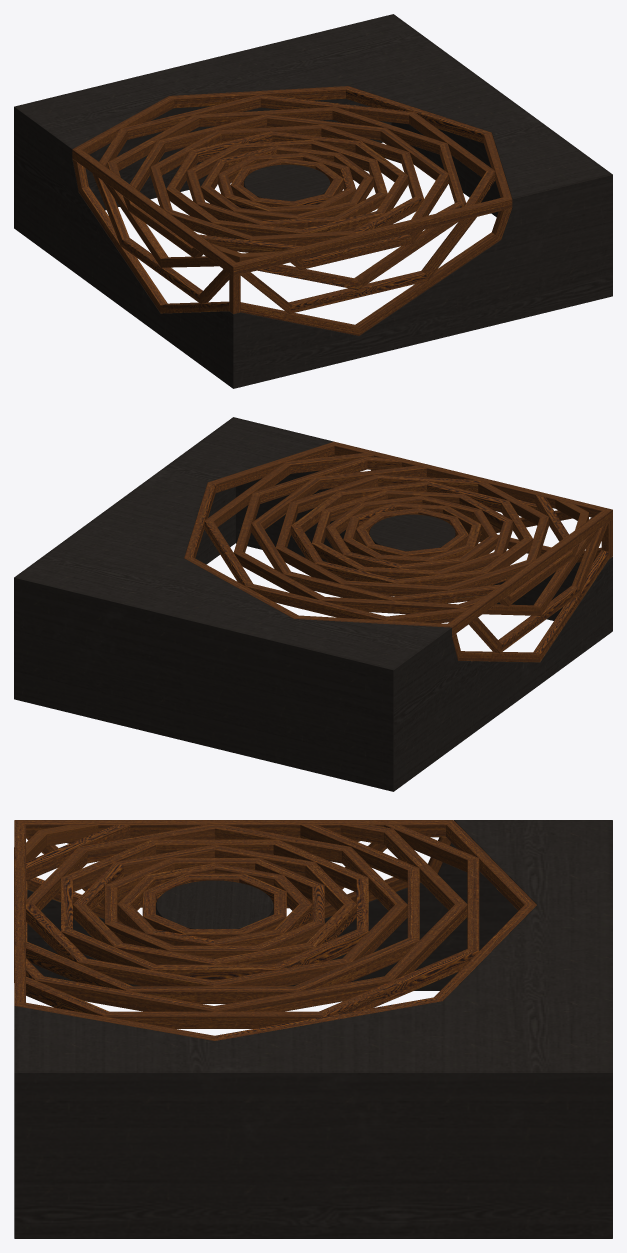
The model's file is modern_coffee_table_02.glb.
The picture shows the model from 3 angles, top to bottom: view 1: azimuth 30°, elevation 25°; view 2: azimuth 150°, elevation 25°; view 3: azimuth 270°, elevation 25°; orthographic projection. The views are drawn at different scales.
Parts seen in each view (by area): view 1: modern_coffee_table_02_m0; view 2: modern_coffee_table_02_m0; view 3: modern_coffee_table_02_m0.
Boxes of the visible parts, x1,y1,x2,y2 form: modern_coffee_table_02_m0: (14,14,612,388); modern_coffee_table_02_m0: (14,417,612,791); modern_coffee_table_02_m0: (14,820,612,1238).
Size of the model in its own units: 1.06 by 0.3268 by 1.06.
2 materials, 2 textured.
